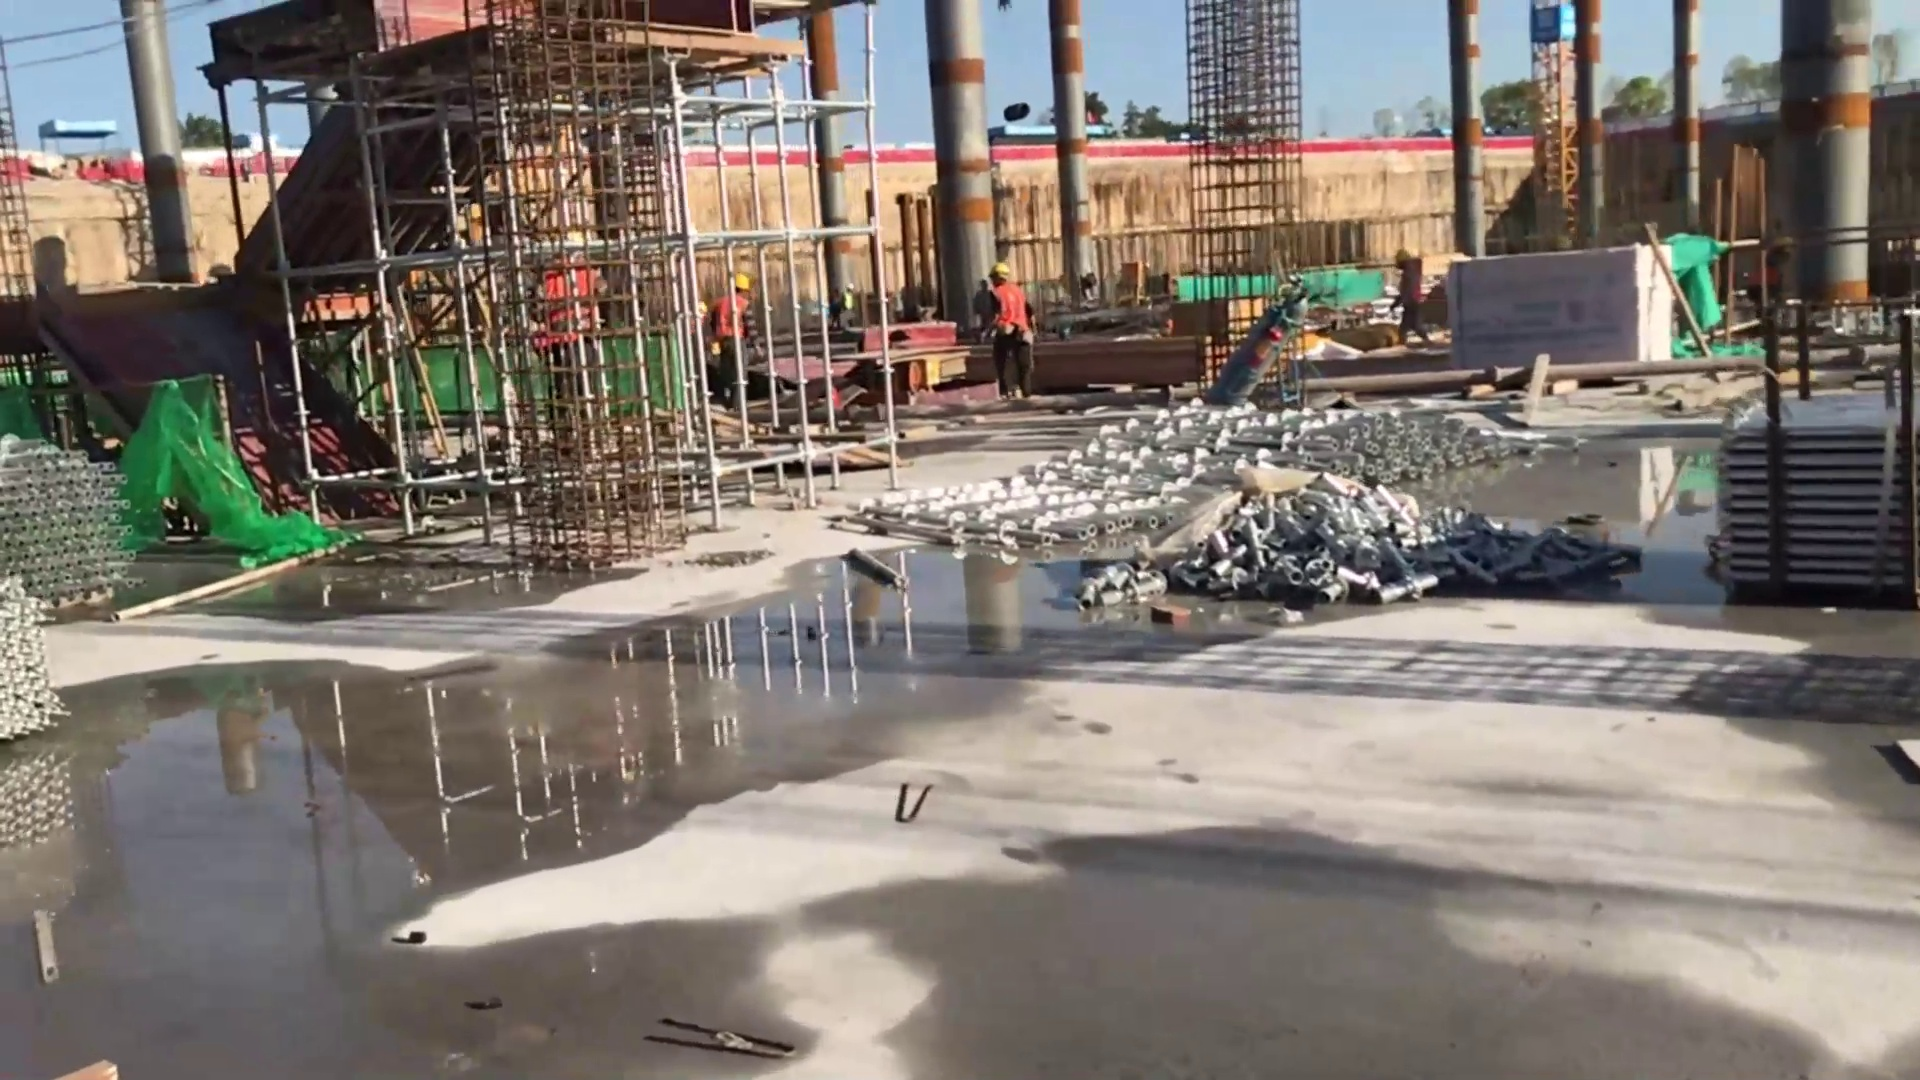helmet: (990, 262, 1008, 277)
person: (979, 262, 1035, 418), (711, 268, 756, 407)
scaffold: (1705, 392, 1920, 595), (1083, 397, 1511, 480)
